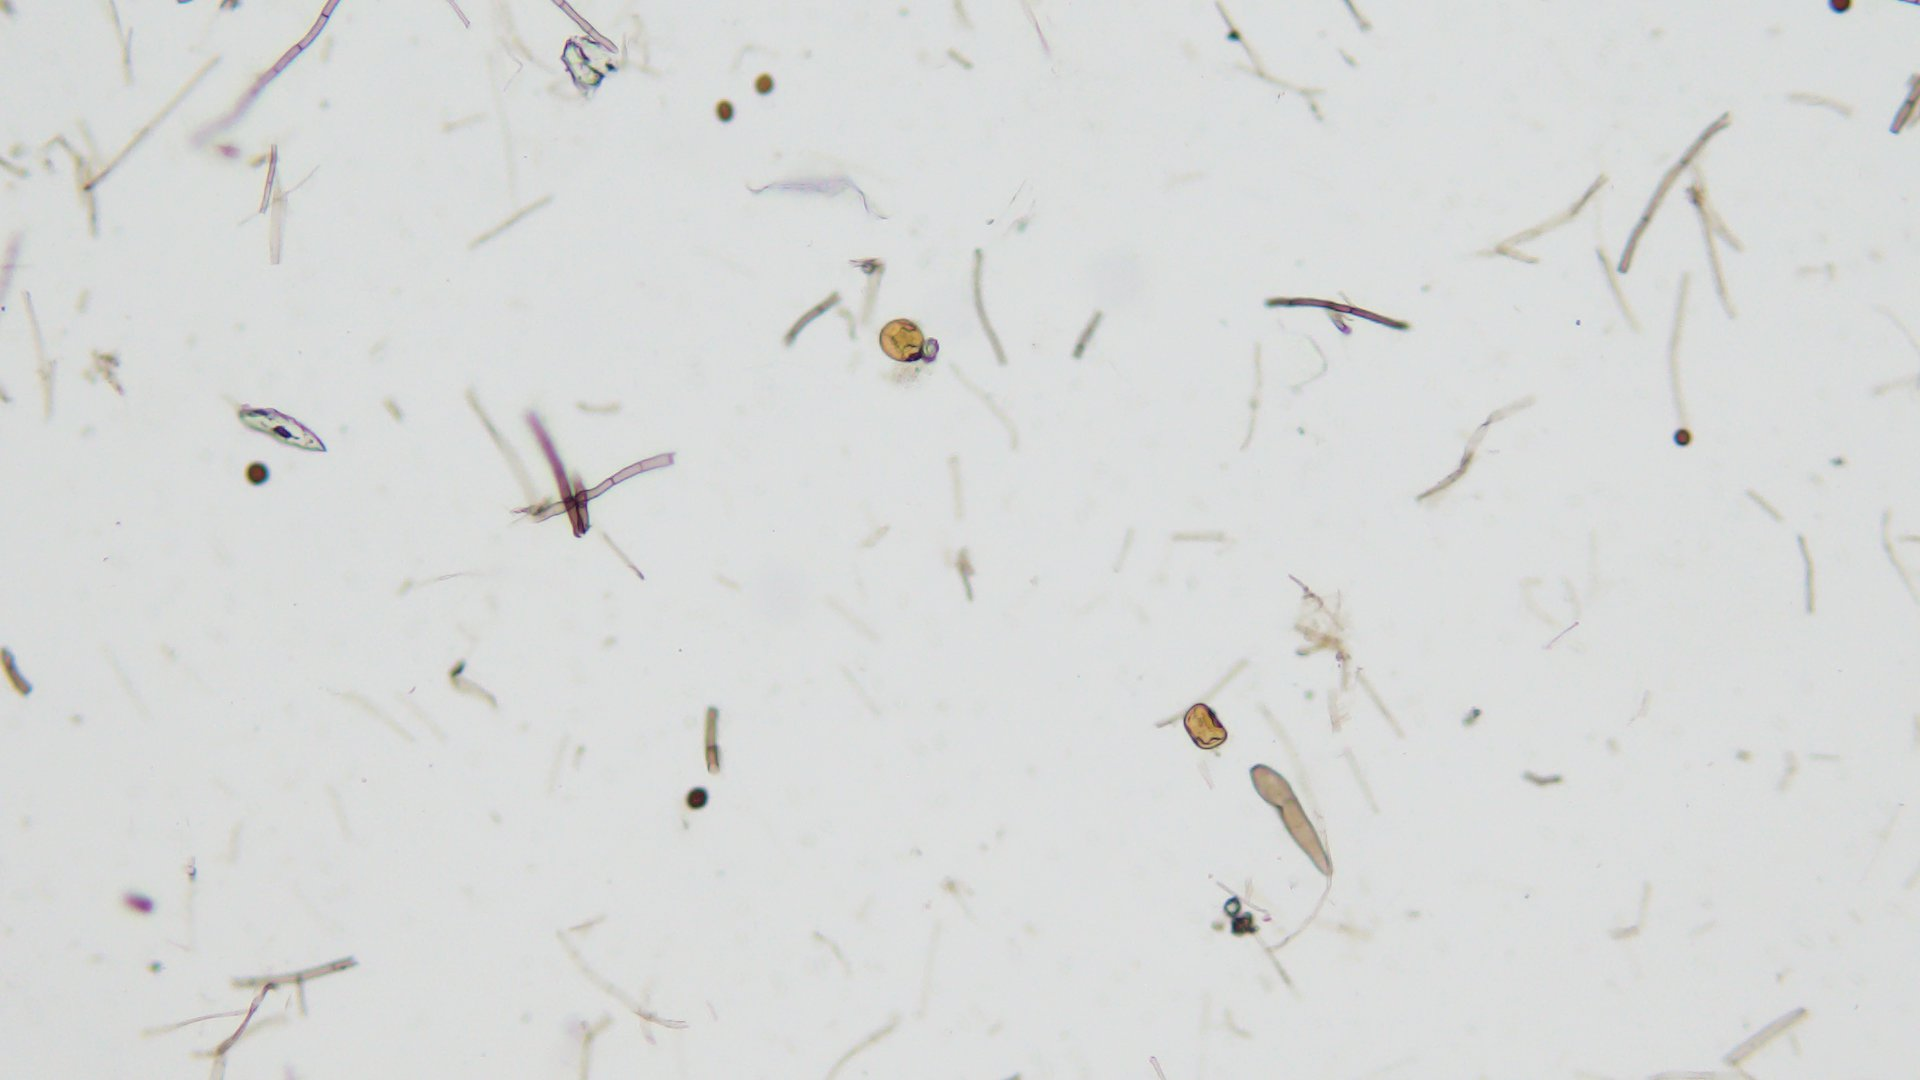dbb_spore: (1245, 765, 1338, 876)
shs_spore: (686, 786, 709, 811), (247, 463, 268, 487), (1673, 429, 1693, 447)
xb_spore: (877, 316, 926, 364), (1182, 700, 1228, 749)
